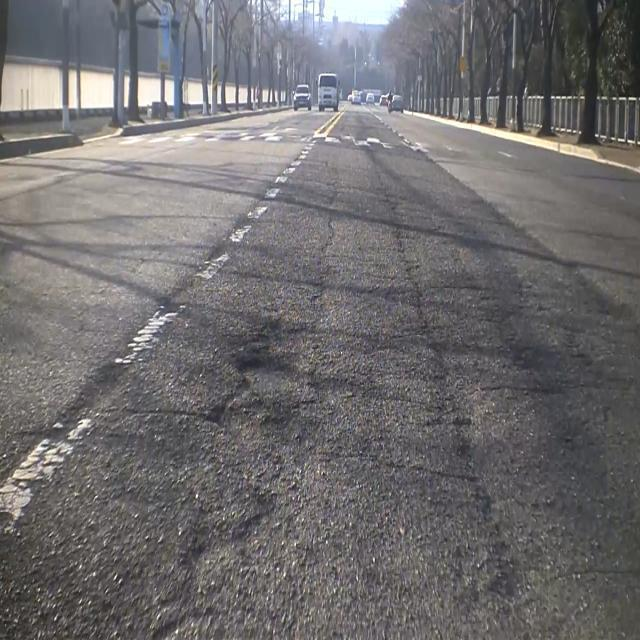pothole: (146, 503, 276, 640), (209, 314, 306, 440)
